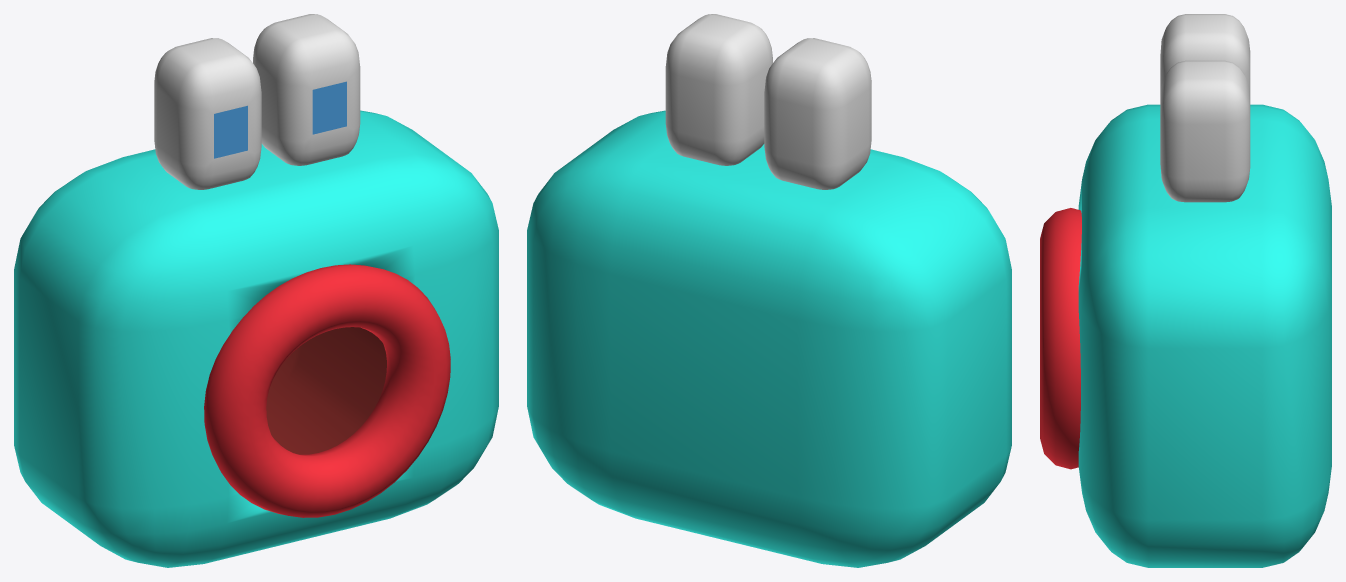
Rendered from face-mocap.glb.
3 renders of one model, left to right at view 1: azimuth 30°, elevation 25°; view 2: azimuth 150°, elevation 25°; view 3: azimuth 270°, elevation 25°, orthographic. The views are drawn at different scales.
Parts seen in each view (by area): view 1: body, lips; view 2: body; view 3: body, lips.
Boxes of the visible parts, x1,y1,x2,y2 form: body: [14, 14, 498, 567]; lips: [204, 264, 450, 517]; body: [527, 14, 1011, 567]; body: [1078, 14, 1331, 567]; lips: [1040, 208, 1081, 469].
Size of the model in its own units: 1.14 by 1.25 by 0.7186.
